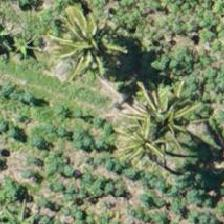coconut_tree: (92, 95, 182, 185), (41, 0, 131, 83)
